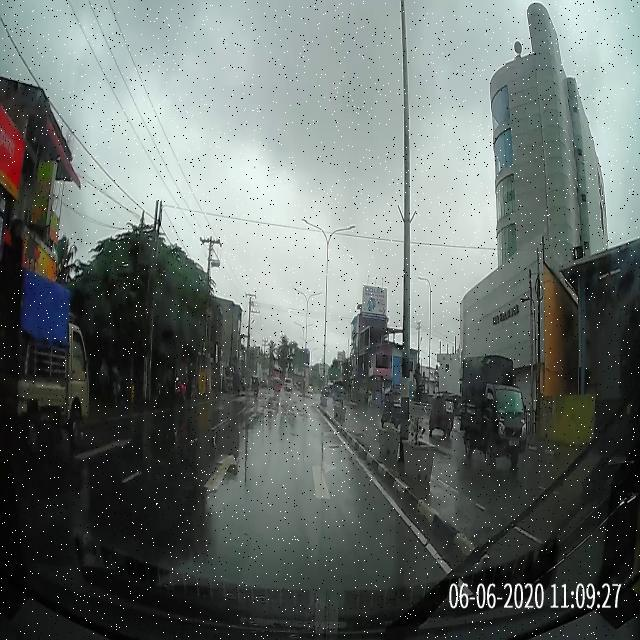forward: (117, 437, 278, 521)
right: (255, 451, 406, 514)
